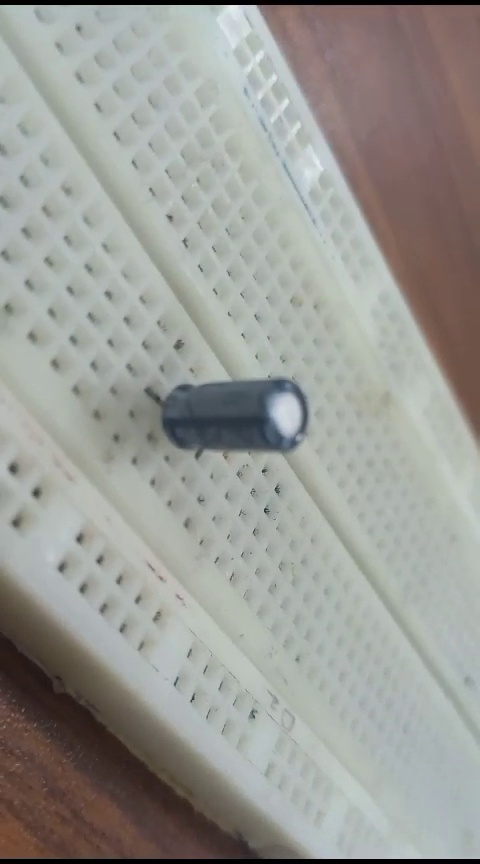capacitor: (143, 357, 314, 469)
